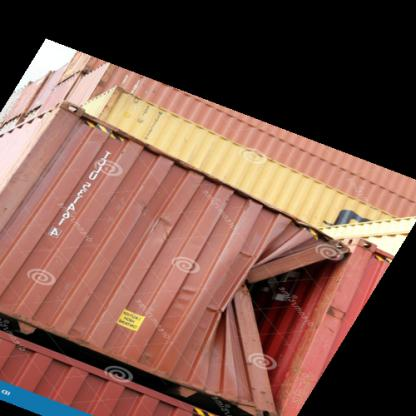Damage: (240, 248, 353, 386)
